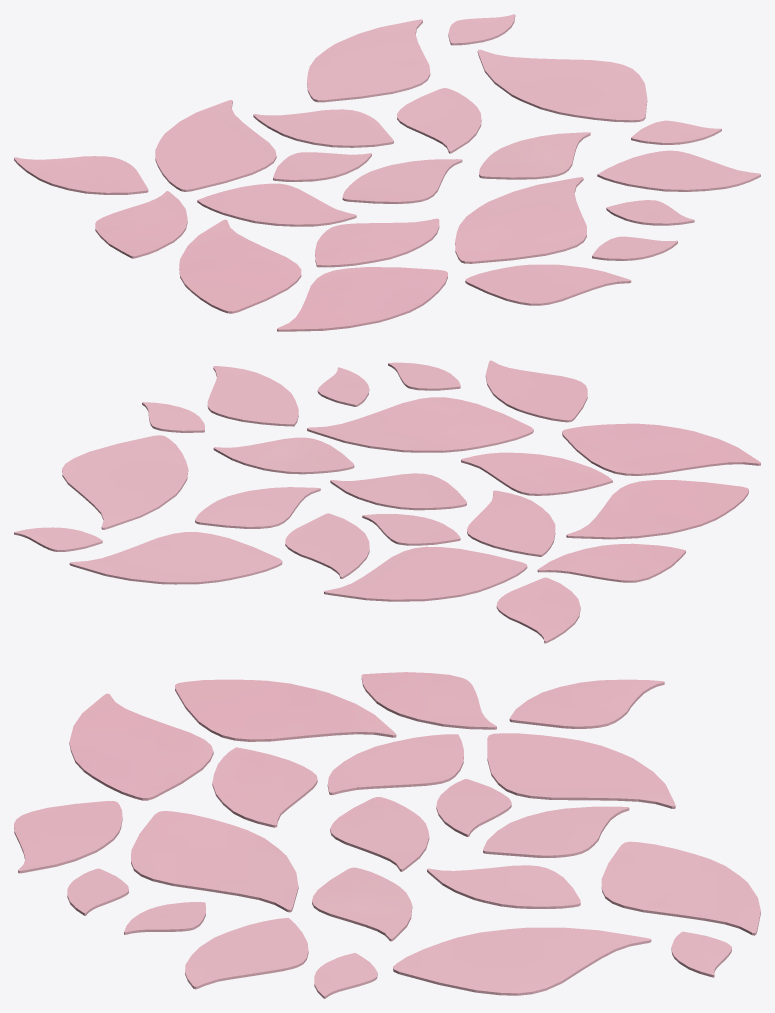
The model's file is SakuraFolha.fbx.
The picture shows the model from 3 angles, top to bottom: view 1: azimuth 30°, elevation 25°; view 2: azimuth 150°, elevation 25°; view 3: azimuth 270°, elevation 25°; orthographic projection. The views are drawn at different scales.
Visible parts, largest first — view 1: Plane.020; view 2: Plane.020; view 3: Plane.020.
Boxes of the visible parts, box(x1,y1,x2,y2) form: Plane.020: box(14, 14, 760, 331); Plane.020: box(14, 360, 760, 643); Plane.020: box(14, 672, 760, 998).
Size of the model in its own units: 1042 by 3.7 by 1014.
